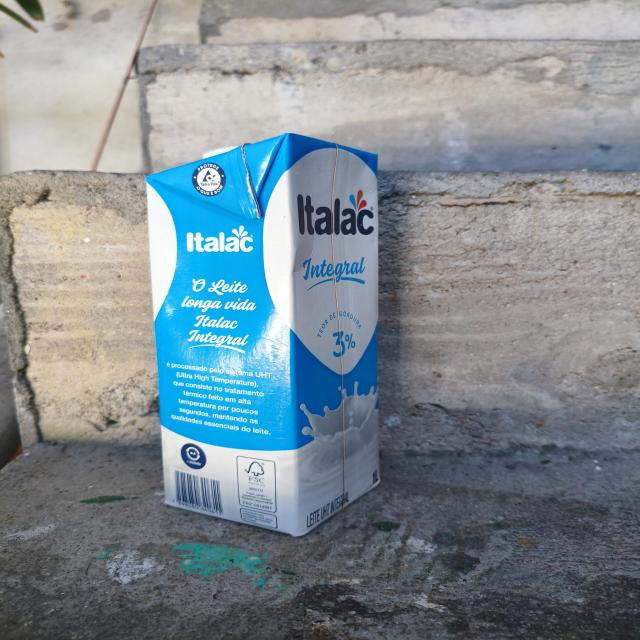Caixa de Leite: (136, 131, 382, 539)
